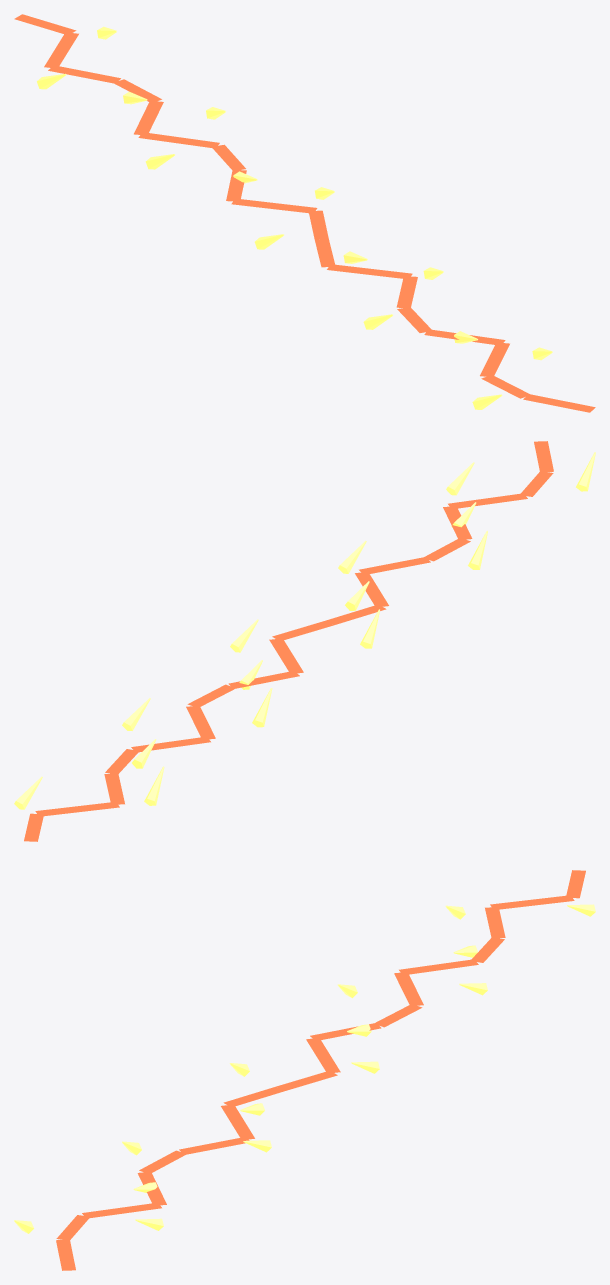
Rendered from FX_BOSS_HornCharge.glb.
The picture shows the model from 3 angles, top to bottom: view 1: azimuth 30°, elevation 25°; view 2: azimuth 150°, elevation 25°; view 3: azimuth 330°, elevation 25°; orthographic projection.
Visible parts, largest first — view 1: FX_BOSS_HornCharge_Release, FX_BOSS_HornCharge_Debris; view 2: FX_BOSS_HornCharge_Release, FX_BOSS_HornCharge_Debris; view 3: FX_BOSS_HornCharge_Release, FX_BOSS_HornCharge_Debris.
Boxes of the visible parts, x1,y1,x2,y2 form: FX_BOSS_HornCharge_Release: (14, 14, 595, 412); FX_BOSS_HornCharge_Debris: (37, 26, 552, 409); FX_BOSS_HornCharge_Release: (24, 441, 553, 841); FX_BOSS_HornCharge_Debris: (14, 452, 595, 809); FX_BOSS_HornCharge_Release: (56, 870, 585, 1270); FX_BOSS_HornCharge_Debris: (14, 904, 595, 1233).
Size of what is drawn, in the model's own units: 0.00239 by 0.000578 by 0.0208.
